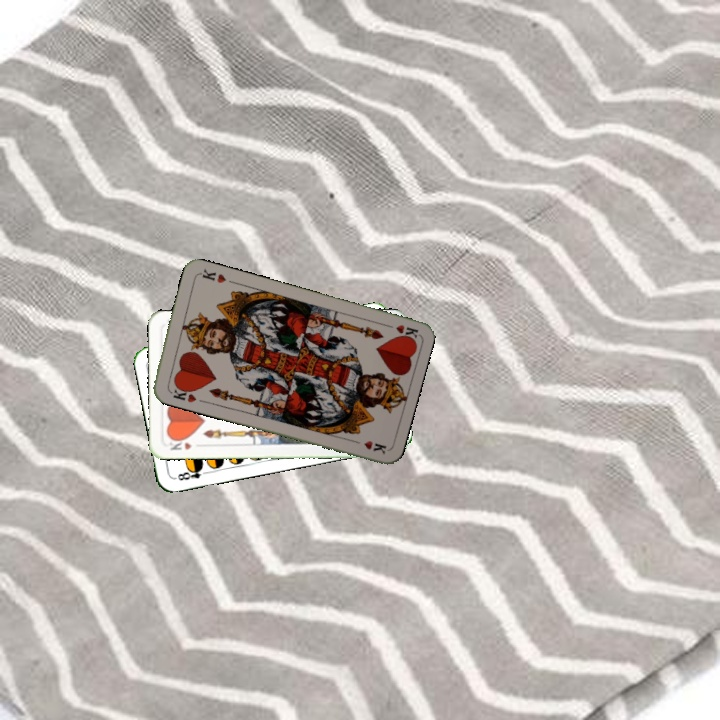E8: (171, 462, 211, 483)
HK: (379, 319, 420, 343), (165, 381, 199, 405), (164, 435, 194, 453)
